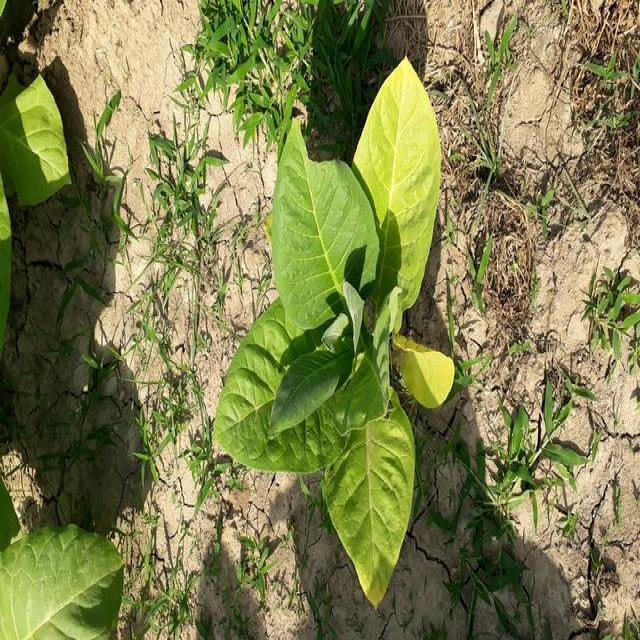crop: (215, 45, 456, 610)
